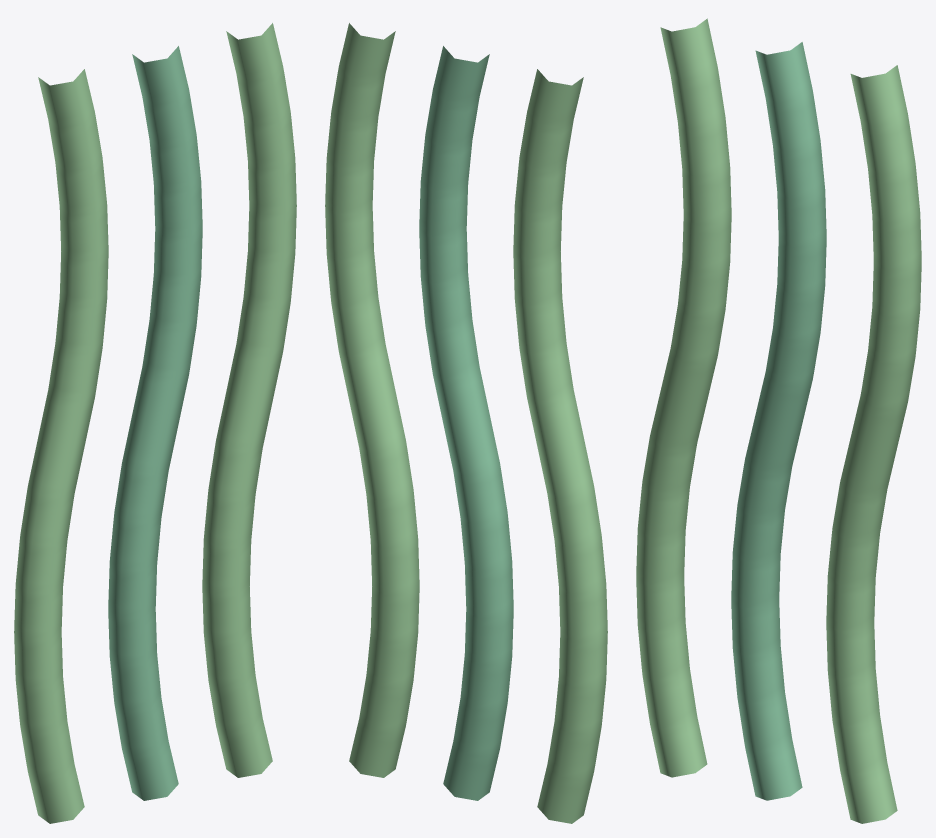
The model's file is decor_6_classic.glb.
3 views of the same model, side by side, from view 1: azimuth 30°, elevation 25°; view 2: azimuth 150°, elevation 25°; view 3: azimuth 330°, elevation 25° (orthographic).
Parts seen in each view (by area): view 1: decor_6_classic; view 2: decor_6_classic; view 3: decor_6_classic.
Boxes of the visible parts, <box> form: decor_6_classic: <box>14,23,296,823</box>; decor_6_classic: <box>325,23,607,823</box>; decor_6_classic: <box>636,18,921,823</box>.
Size of the model in its own units: 4.61 by 12.14 by 0.7.
